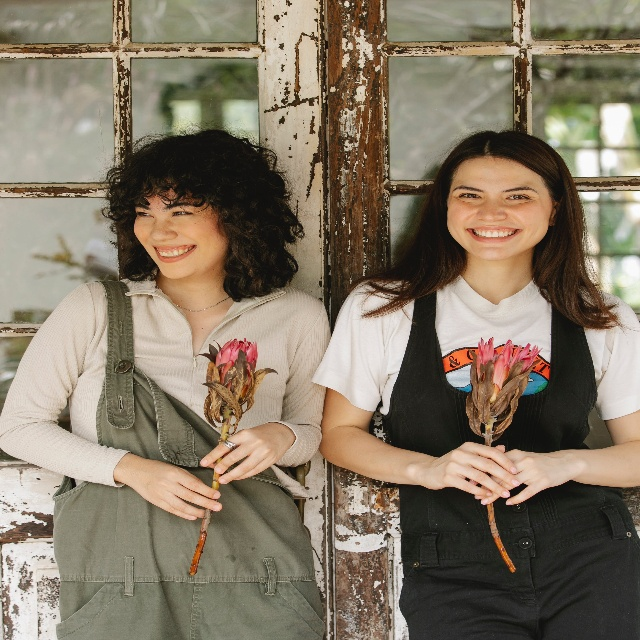Sin_guantes: (469, 448, 576, 506), (128, 456, 222, 520), (200, 423, 292, 485), (421, 440, 519, 498)
